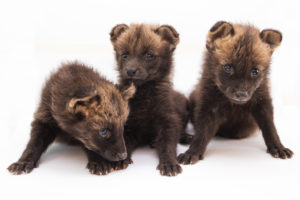LoboGuara: (188, 15, 296, 167), (4, 61, 135, 174), (103, 21, 188, 179)
